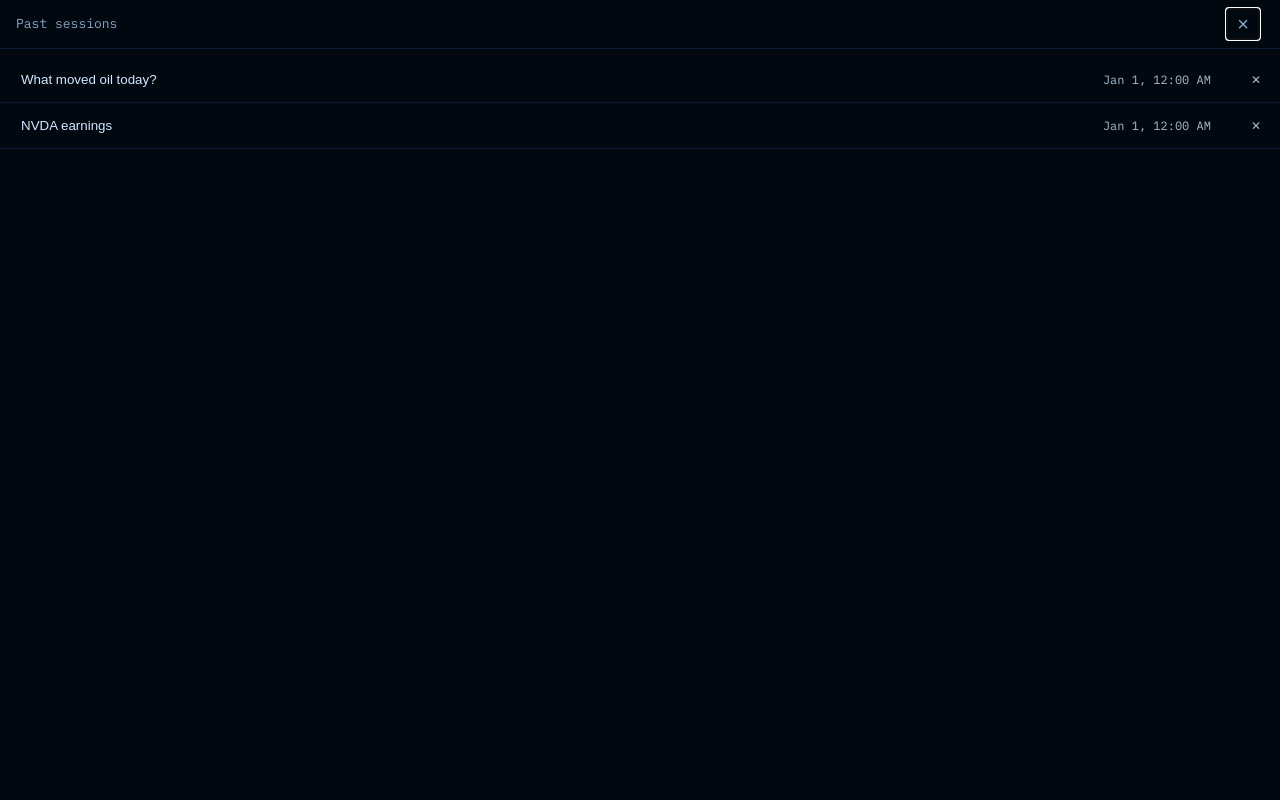
Test: SessionHistory — delete (Roy, 2026-10-18) › asks in the app's delete dialog, then deletes the row; Cancel keeps it
What coordinates should you click on to do the following:
click the button named "Delete What moved oil today?"
I would click on:
 (1256, 80)
Its box is top-left (1237, 62), bottom-right (1275, 97).
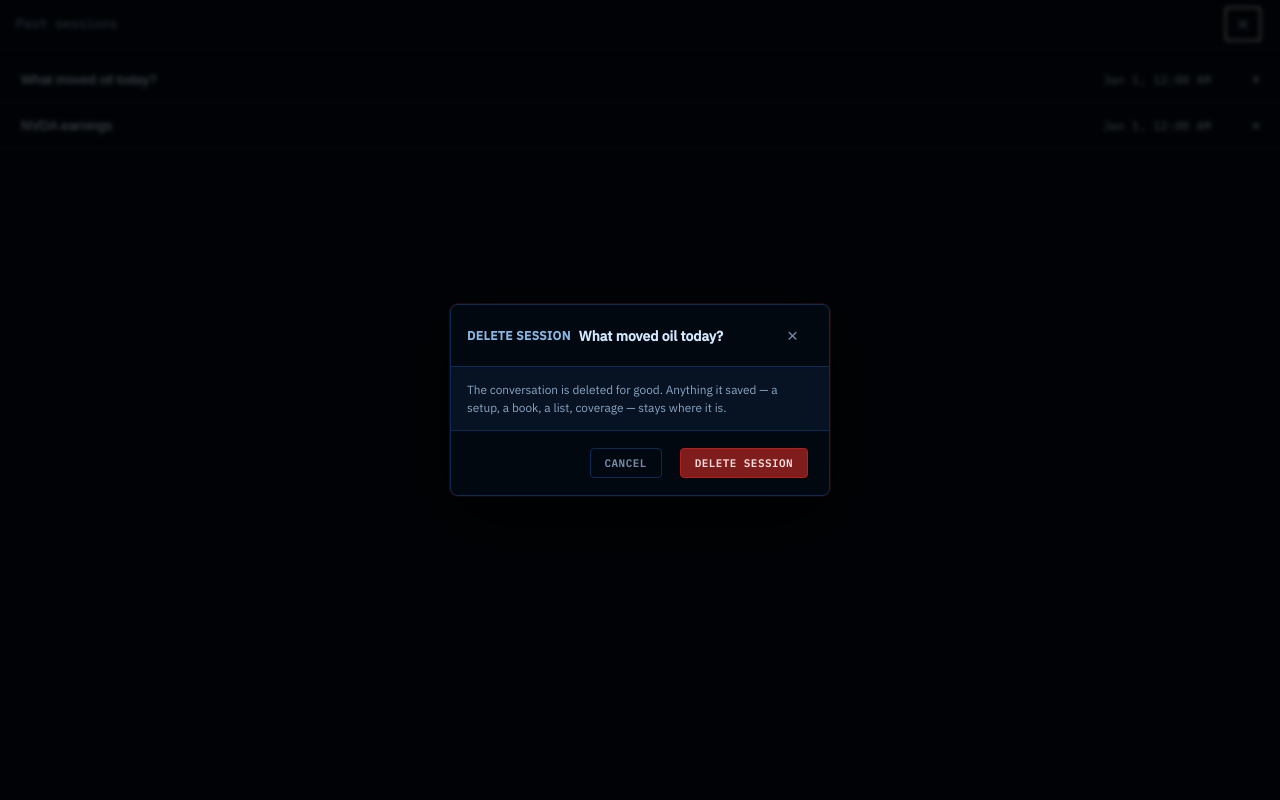
expect the dialog is shown: met, box top-left (450, 304), bottom-right (830, 496)
expect the dialog shows "Delete session": met, box top-left (467, 328), bottom-right (571, 343)
expect the dialog shows "What moved oil today?": met, box top-left (579, 327), bottom-right (723, 345)
What coordinates should you click on to do the following:
click the button "Cancel"
I would click on:
 (626, 463)
Its box is top-left (590, 448), bottom-right (662, 478).
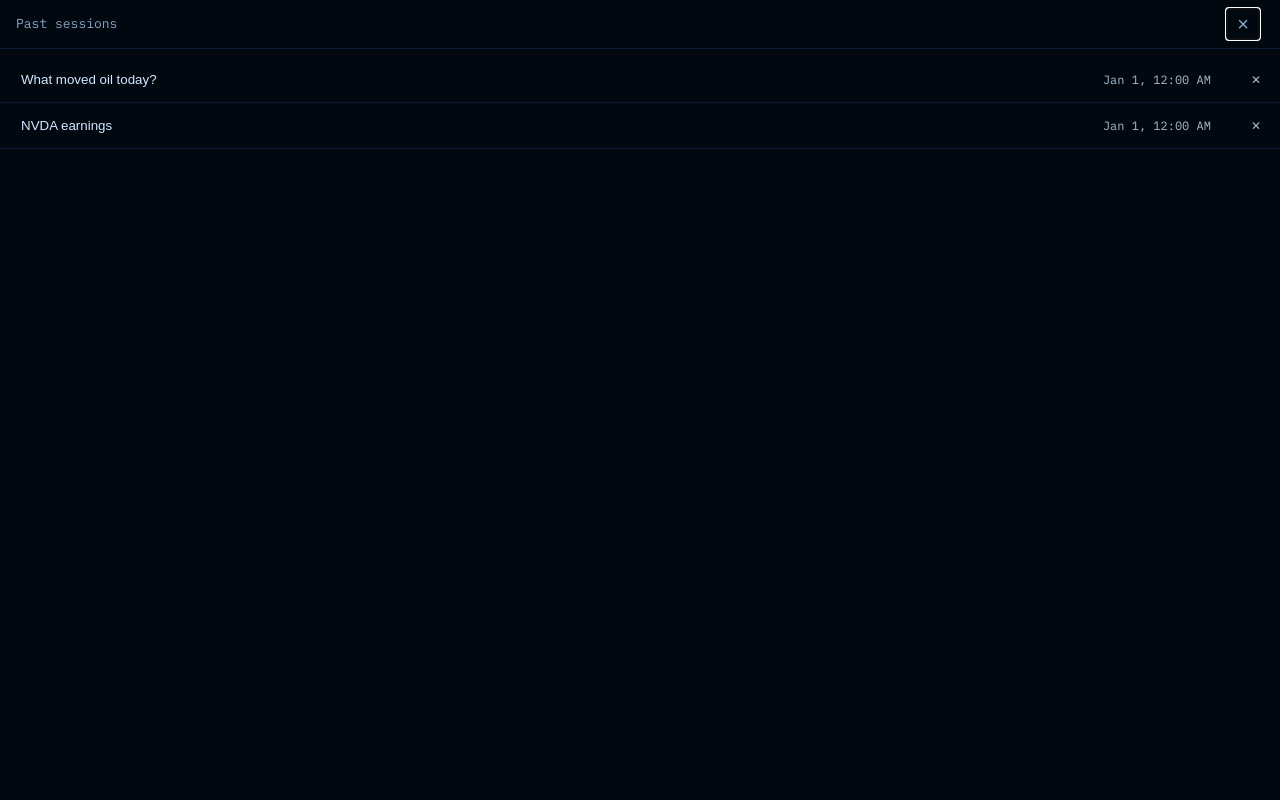
What coordinates should you click on to do the following:
click the button named "Delete What moved oil today?"
I would click on:
 (1256, 80)
Its box is top-left (1237, 62), bottom-right (1275, 97).
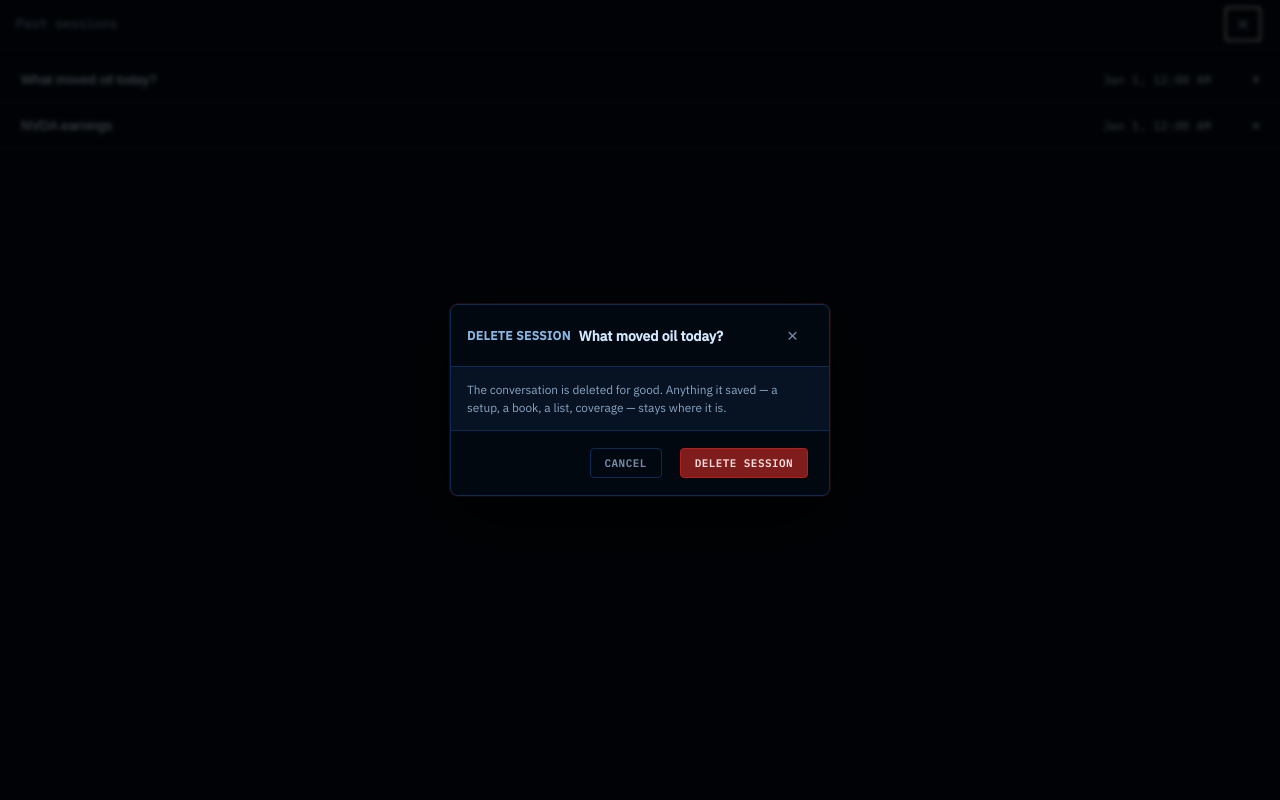
What coordinates should you click on to do the following:
click the button "Delete session"
I would click on:
 (744, 463)
Its box is top-left (680, 448), bottom-right (808, 478).
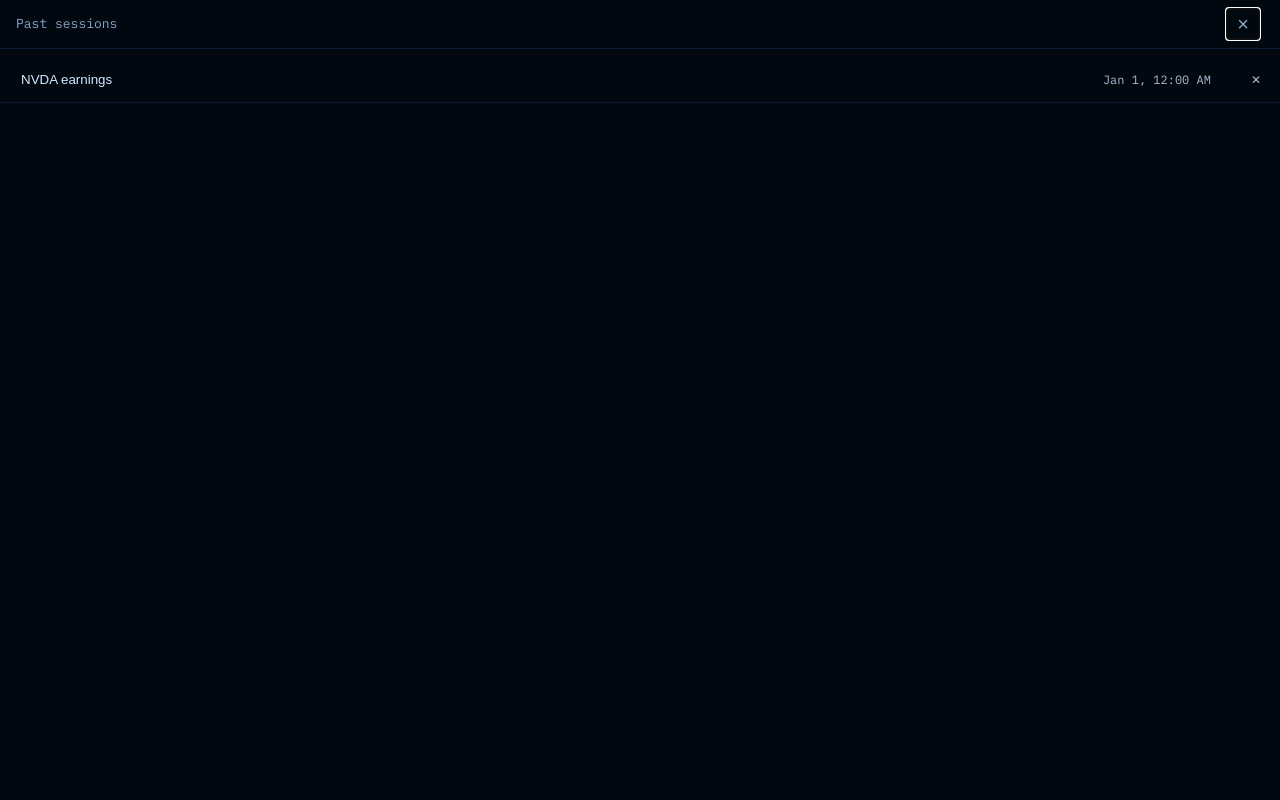
expect the text "NVDA earnings" is shown: met, box top-left (21, 72), bottom-right (112, 87)
expect the button "What moved oil today?" is gone: met
